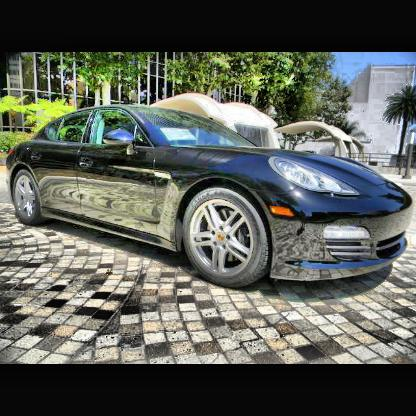Porsche Panamera Sedan 2012: (6, 105, 416, 290)
